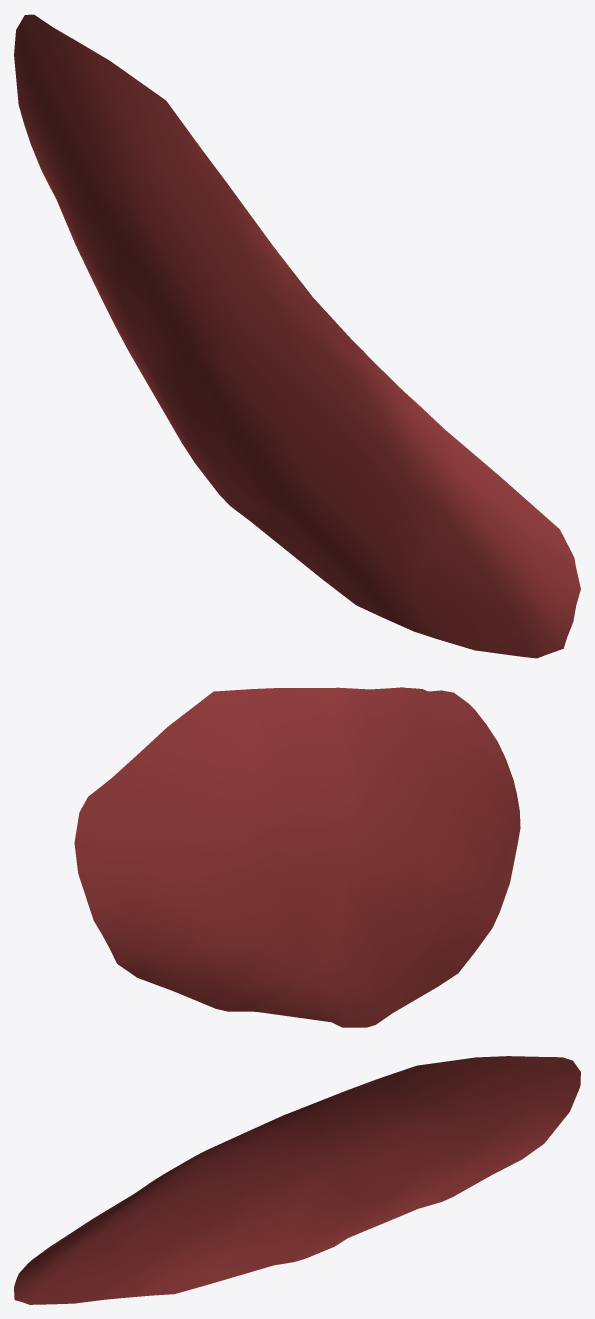
The model's file is serratus-anterior-muscle-e3r.glb.
The picture shows the model from 3 angles, top to bottom: view 1: azimuth 30°, elevation 25°; view 2: azimuth 150°, elevation 25°; view 3: azimuth 270°, elevation 25°; orthographic projection. The views are drawn at different scales.
Parts seen in each view (by area): view 1: Serratus anterior muscle.e3r; view 2: Serratus anterior muscle.e3r; view 3: Serratus anterior muscle.e3r.
Boxes of the visible parts, left/top/right/bottom form: Serratus anterior muscle.e3r: left=14, top=14, right=580, bottom=658; Serratus anterior muscle.e3r: left=74, top=687, right=520, bottom=1027; Serratus anterior muscle.e3r: left=14, top=1056, right=580, bottom=1304.
Bounding box in the file's own units: 0.00874 × 0.021 × 0.0461.
